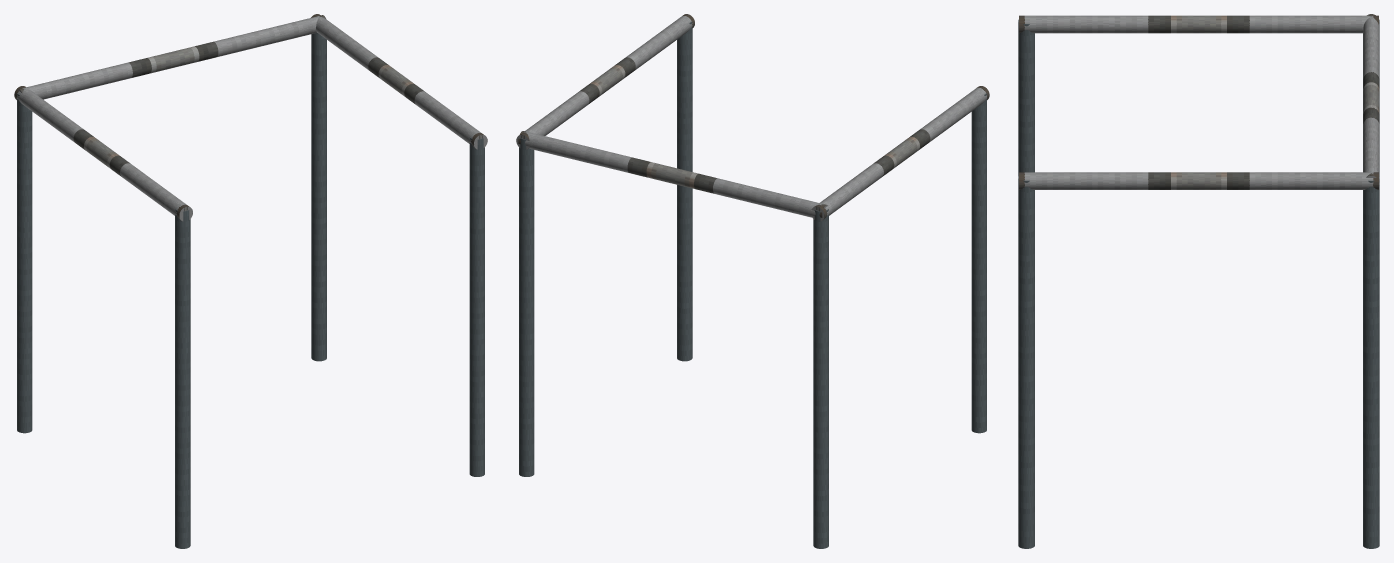
The model's file is firepole-guard.glb.
3 renders of one model, left to right at view 1: azimuth 30°, elevation 25°; view 2: azimuth 150°, elevation 25°; view 3: azimuth 270°, elevation 25°, orthographic. The views are drawn at different scales.
Parts seen in each view (by area): view 1: post (×4), rail (×3); view 2: post (×4), rail (×3); view 3: rail (×3), post (×3).
Part boxes in pixels (x1,y1,x2,y2): post (×4): (17, 32, 484, 548); rail (×3): (14, 14, 487, 221); post (×4): (519, 21, 986, 548); rail (×3): (516, 14, 989, 221); rail (×3): (1019, 14, 1379, 189); post (×3): (1018, 19, 1379, 548).
Size of the model in its own units: 0.984 by 1.04 by 0.9167.
2 materials, 2 textured.
